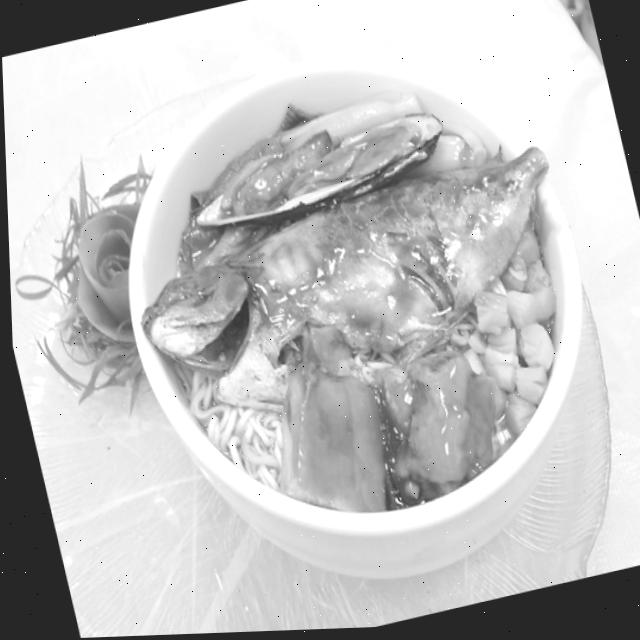面条主食: (53, 11, 640, 606)
